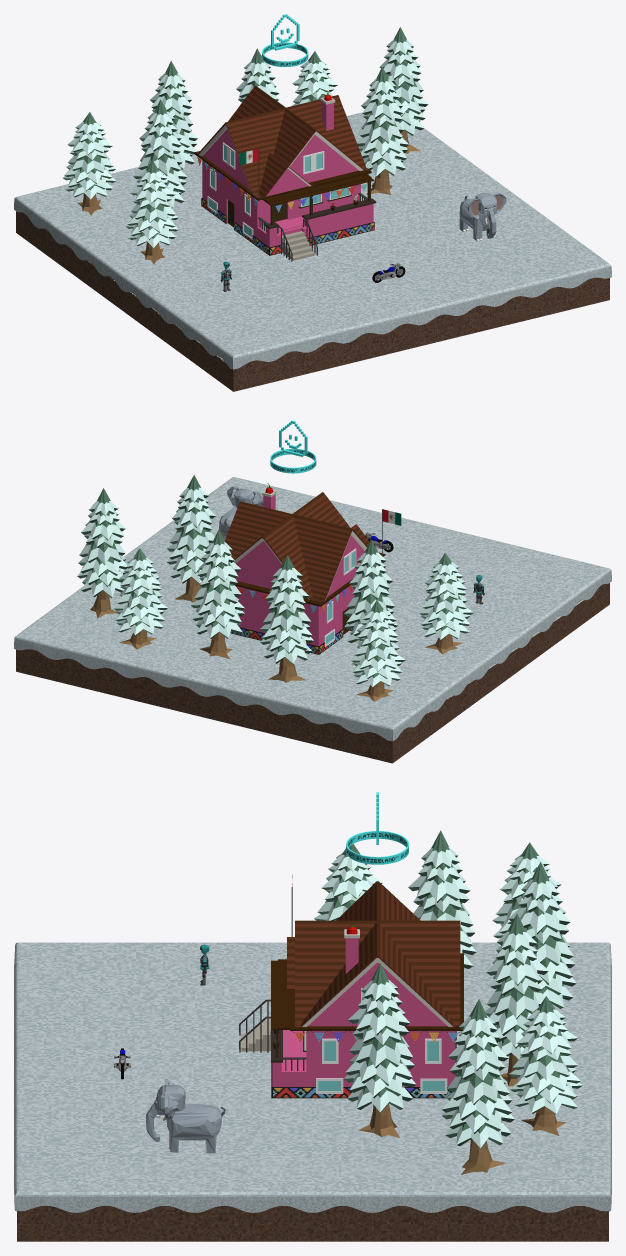
3 views of the same model, one above another, from view 1: azimuth 30°, elevation 25°; view 2: azimuth 150°, elevation 25°; view 3: azimuth 270°, elevation 25° (orthographic). The views are drawn at different scales.
Parts seen in each view (by area): view 1: Cube.003, Cube.1005, ANIMAL_ELEFANTE, TYPE_PREMIUM; view 2: Cube.003, Cube.1005, TYPE_PREMIUM, ANIMAL_ELEFANTE; view 3: Cube.003, Cube.1005, ANIMAL_ELEFANTE, TYPE_PREMIUM.
Part boxes in pixels (<box>): Cube.003: <box>14,27,611,391</box>; Cube.1005: <box>194,85,376,261</box>; ANIMAL_ELEFANTE: <box>459,192,506,241</box>; TYPE_PREMIUM: <box>262,14,308,66</box>; Cube.003: <box>14,475,611,763</box>; Cube.1005: <box>225,483,401,654</box>; TYPE_PREMIUM: <box>270,420,316,473</box>; ANIMAL_ELEFANTE: <box>219,486,263,540</box>; Cube.003: <box>14,830,611,1241</box>; Cube.1005: <box>239,875,463,1098</box>; ANIMAL_ELEFANTE: <box>146,1079,225,1153</box>; TYPE_PREMIUM: <box>346,792,408,864</box>.
Bounding box in the file's own units: 4040 × 2568 × 4040.
Materials: 68 (6 with a texture image).
